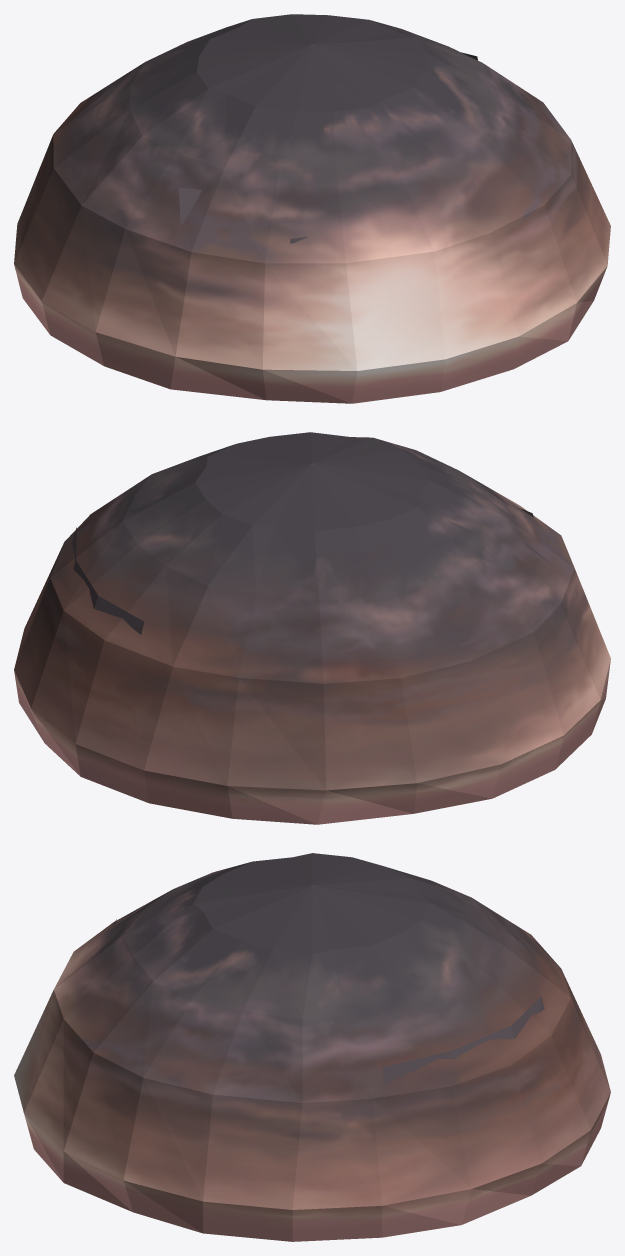
File: C4M4_SKY.obj
3 renders of one model, top to bottom at view 1: azimuth 30°, elevation 25°; view 2: azimuth 150°, elevation 25°; view 3: azimuth 270°, elevation 25°, orthographic.
Visible parts, largest first — view 1: Node 0; view 2: Node 0, Node 1; view 3: Node 0, Node 1.
Part boxes in pixels (x1,y1,x2,y2): Node 0: (14,14,610,403); Node 0: (14,432,610,824); Node 1: (72,527,144,634); Node 0: (14,853,610,1241); Node 1: (382,996,544,1083).
Bounding box in the file's own units: 0.6 × 0.26 × 0.6.
Materials: 6 (6 with a texture image).
